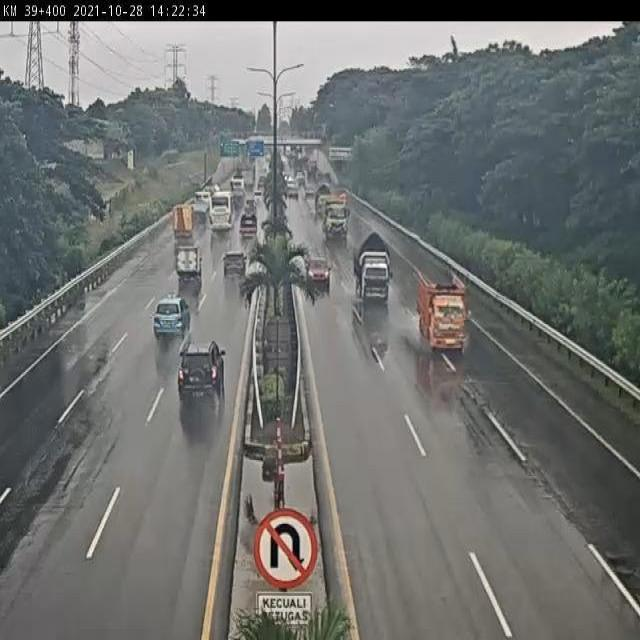bus-l-: (206, 189, 238, 236)
car: (175, 242, 204, 282)
truck-l-: (320, 196, 349, 243)
truck-s-: (415, 267, 464, 352), (352, 228, 393, 308), (170, 201, 195, 243), (236, 211, 260, 240)
